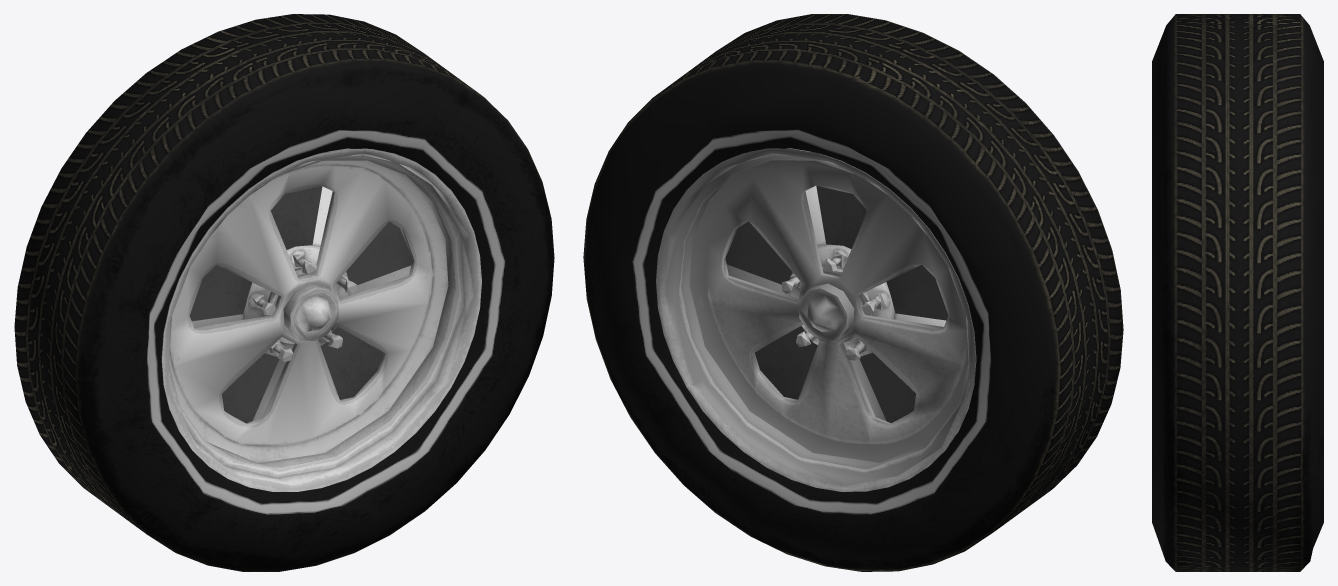
Rendered from wheel_d3.obj.
3 views of the same model, side by side, from view 1: azimuth 30°, elevation 25°; view 2: azimuth 150°, elevation 25°; view 3: azimuth 270°, elevation 25° (orthographic).
Visible parts, largest first — view 1: wheel1_Wheel_0; view 2: wheel1_Wheel_0; view 3: wheel1_Wheel_0.
Boxes of the visible parts, x1=… form: wheel1_Wheel_0: x1=14, y1=14, x2=554, y2=571; wheel1_Wheel_0: x1=583, y1=14, x2=1123, y2=571; wheel1_Wheel_0: x1=1152, y1=14, x2=1323, y2=571.
Bounding box in the file's own units: 0.1533 × 0.1533 × 0.0472.
Materials: 1 (1 with a texture image).
